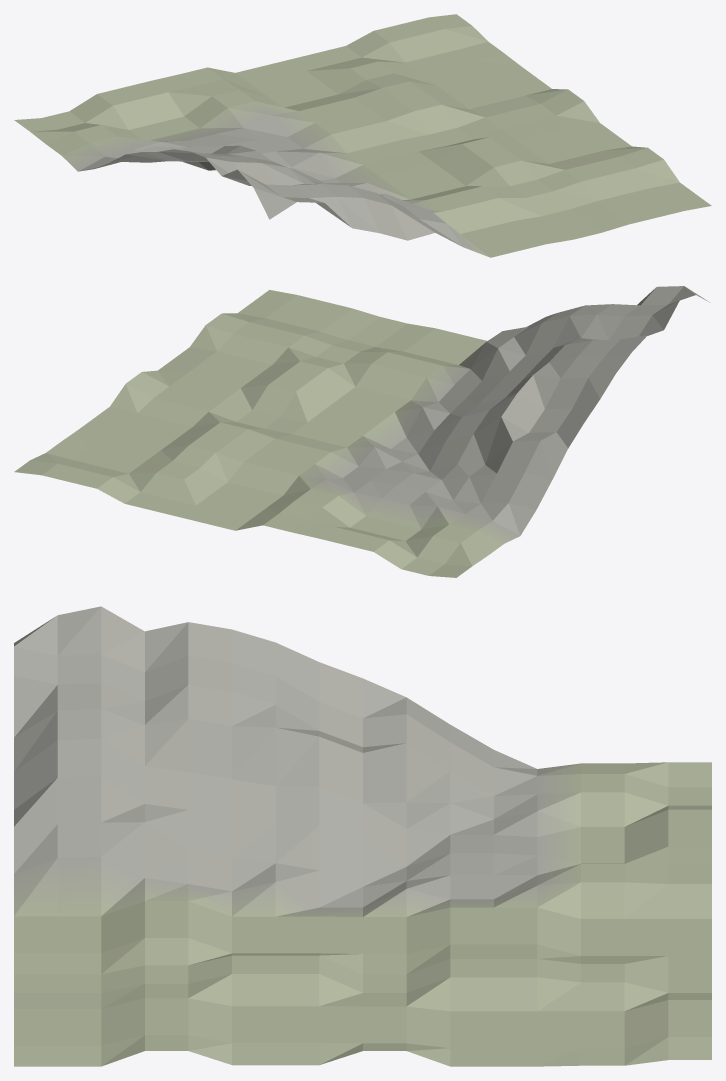
3 views of the same model, one above another, from view 1: azimuth 30°, elevation 25°; view 2: azimuth 150°, elevation 25°; view 3: azimuth 270°, elevation 25° (orthographic). The views are drawn at different scales.
Bounding box in the file's own units: 32 × 8.71 × 32.
